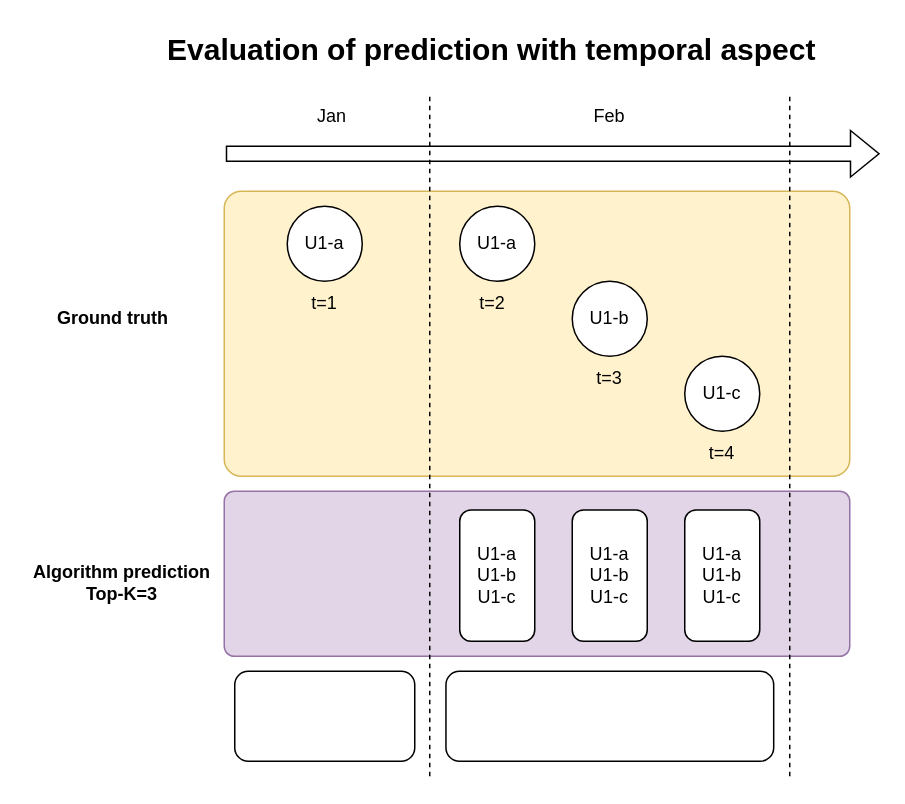
The diagram is 905 pixels wide and 804 high, and some of its shapes have lost their labels. The box of each missing label's shape, as (x1, y1, x2, y2) in pixels:
Testing data: (444, 670, 774, 761)
Training data: (233, 670, 415, 761)
